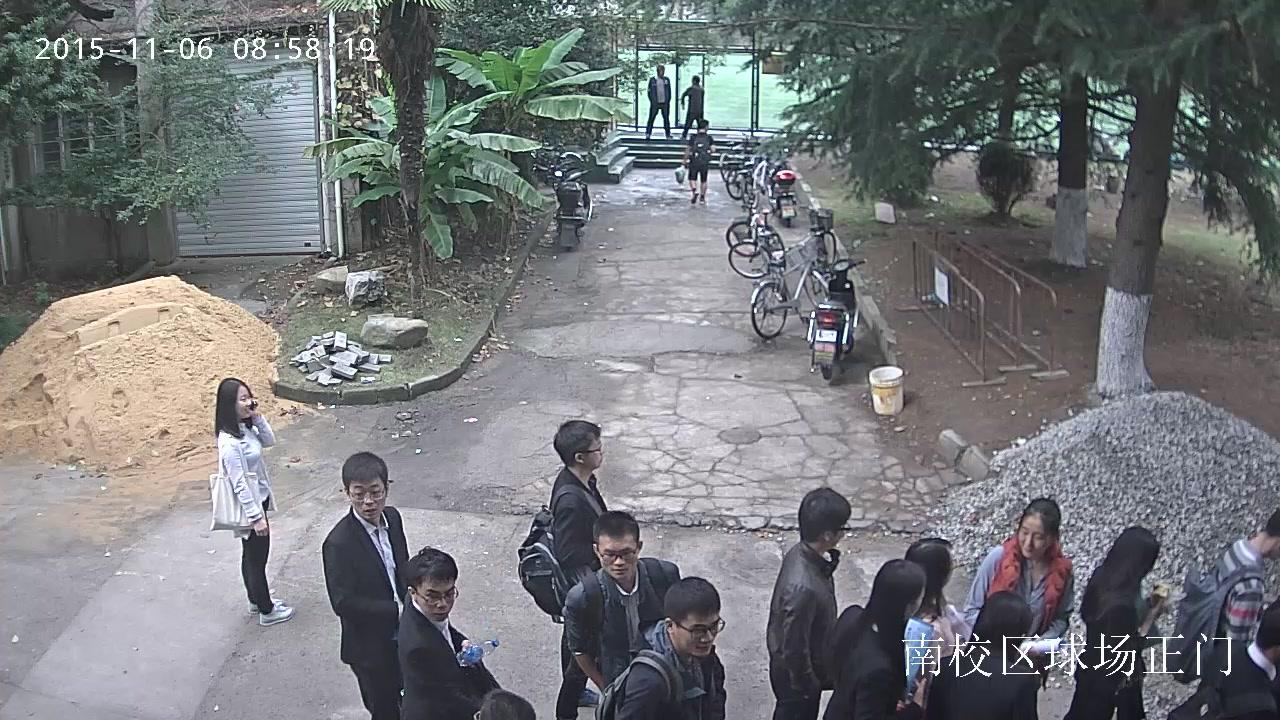person: (518, 420, 646, 706), (555, 510, 681, 720), (321, 451, 411, 720), (1168, 501, 1278, 718), (962, 500, 1074, 697), (209, 376, 295, 626), (1058, 524, 1162, 720), (766, 486, 853, 720), (392, 546, 501, 720), (594, 576, 725, 720), (810, 558, 926, 720), (877, 535, 974, 712), (921, 587, 1041, 720), (1169, 592, 1277, 720), (675, 119, 714, 203), (644, 64, 673, 140), (679, 75, 704, 140)
